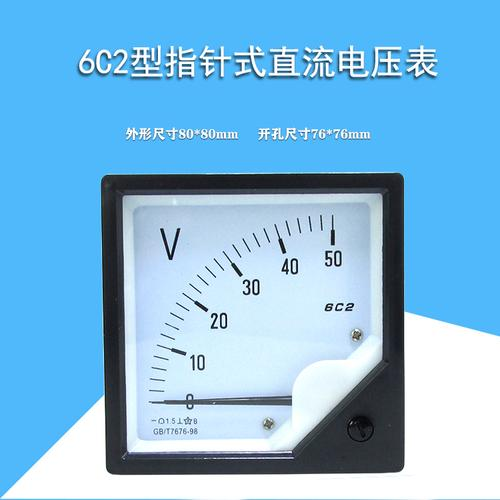pointer: (123, 190, 383, 453)
